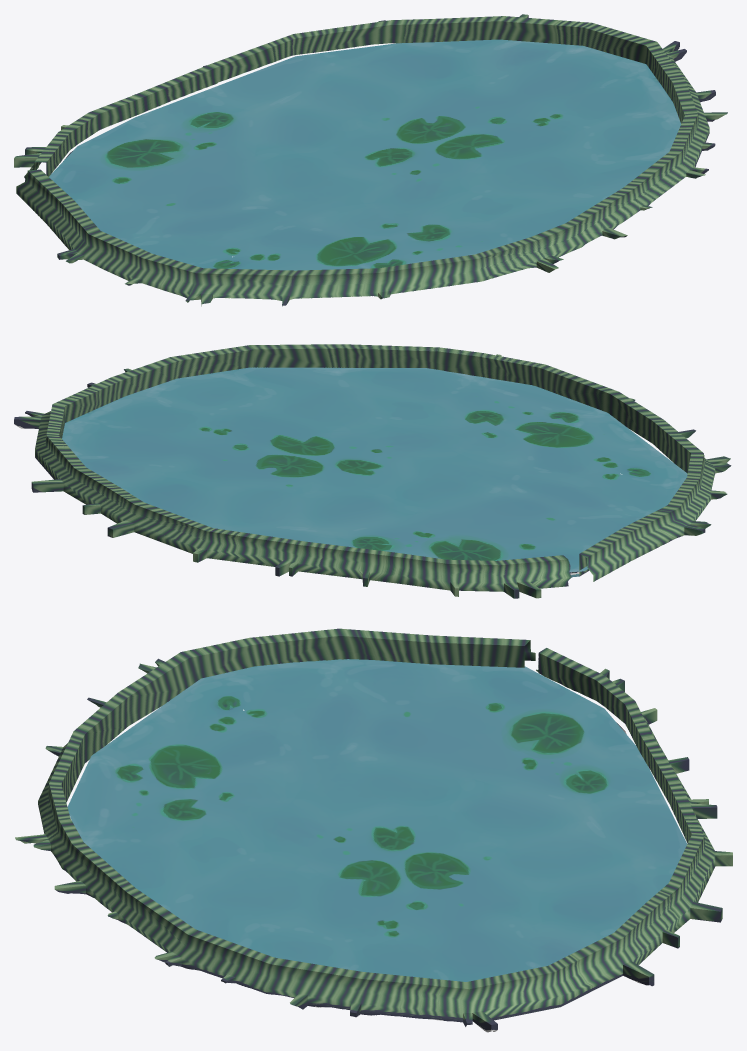
The model's file is Point d'eau.FBX.
3 renders of one model, top to bottom at view 1: azimuth 30°, elevation 25°; view 2: azimuth 150°, elevation 25°; view 3: azimuth 270°, elevation 25°, orthographic. The views are drawn at different scales.
Visible parts, largest first — view 1: Tube001; view 2: Tube001; view 3: Tube001.
Part boxes in pixels (x1,y1,x2,y2): Tube001: [14, 14, 727, 306]; Tube001: [14, 344, 731, 598]; Tube001: [15, 628, 732, 1032].
Size of the model in its own units: 1338 by 45.71 by 1020.
